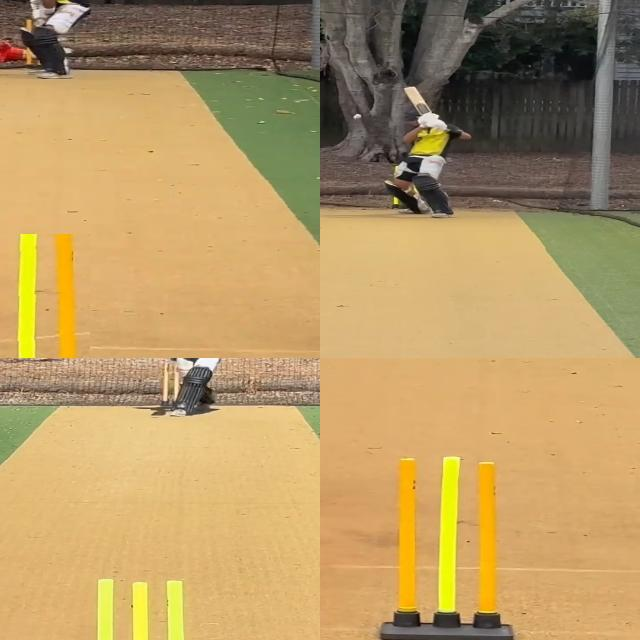Cricket ball: (352, 113, 364, 121)
Stumps: (381, 456, 515, 640), (0, 234, 90, 358), (77, 579, 210, 640)
